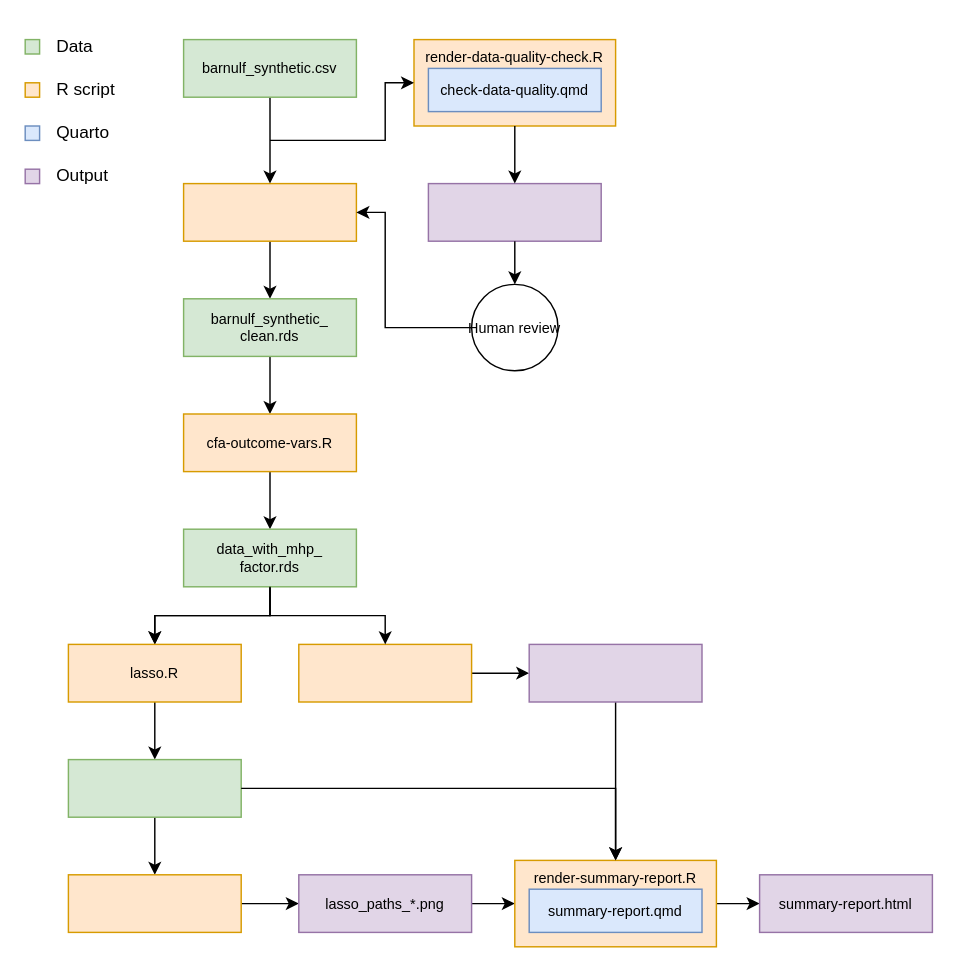
Image size: 958x972. Some labels were removed from this diagram. Each missing label, with the centre of its shape:
check-data-quality.html: the point at 514,211
descriptive-table.html: the point at 615,672
descriptives.R: the point at 384,672
lasso-figures.R: the point at 154,902
lasso_results.rds: the point at 154,787
load-and-clean-data.R: the point at 269,211
